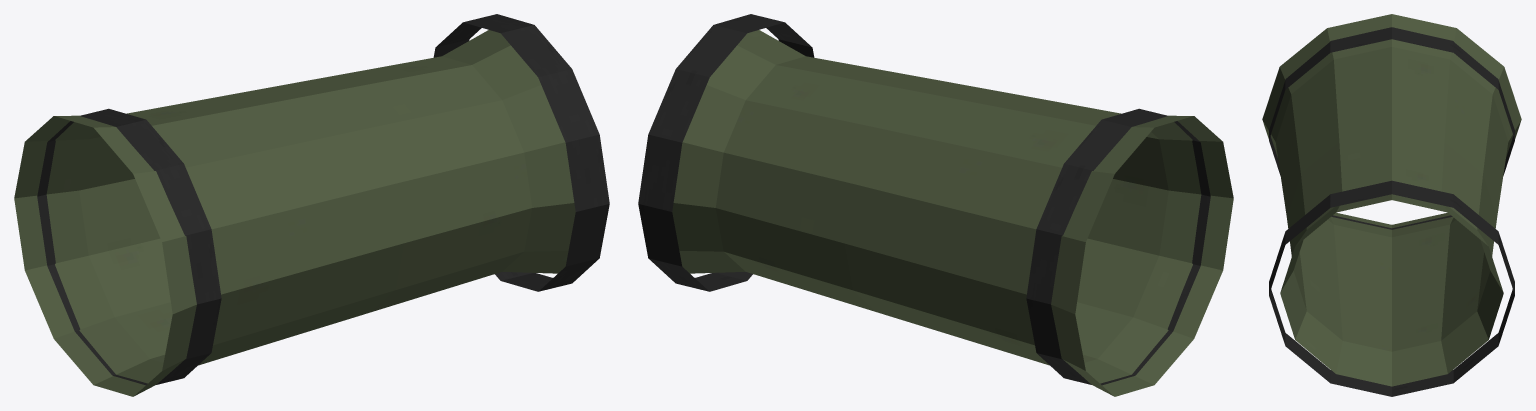
The model's file is eq_present_1_arm.glb.
3 renders of one model, left to right at view 1: azimuth 30°, elevation 25°; view 2: azimuth 150°, elevation 25°; view 3: azimuth 270°, elevation 25°, orthographic. The views are drawn at different scales.
Parts seen in each view (by area): view 1: eq_present_1_arm; view 2: eq_present_1_arm; view 3: eq_present_1_arm.
Part boxes in pixels (bbox=[...]): eq_present_1_arm: bbox=[14, 14, 609, 396]; eq_present_1_arm: bbox=[638, 14, 1233, 396]; eq_present_1_arm: bbox=[1262, 14, 1521, 396].
Size of the model in its own units: 0.233 by 0.13 by 0.145.
Materials: 2 (2 with a texture image).
